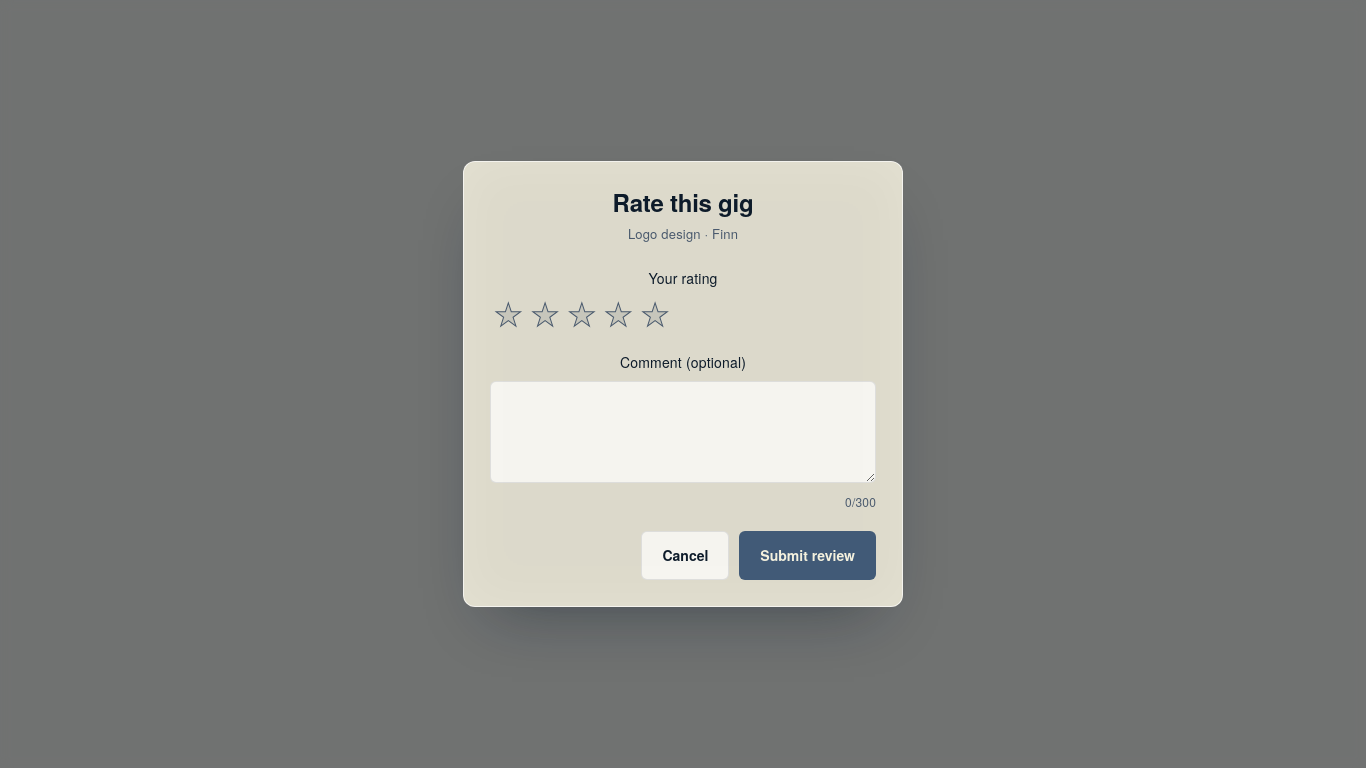
Test: ReviewModal star picker › requires a rating before submitting
The image size is (1366, 768).
Click the button "Submit review" at (808, 555), box [739,531,876,580]
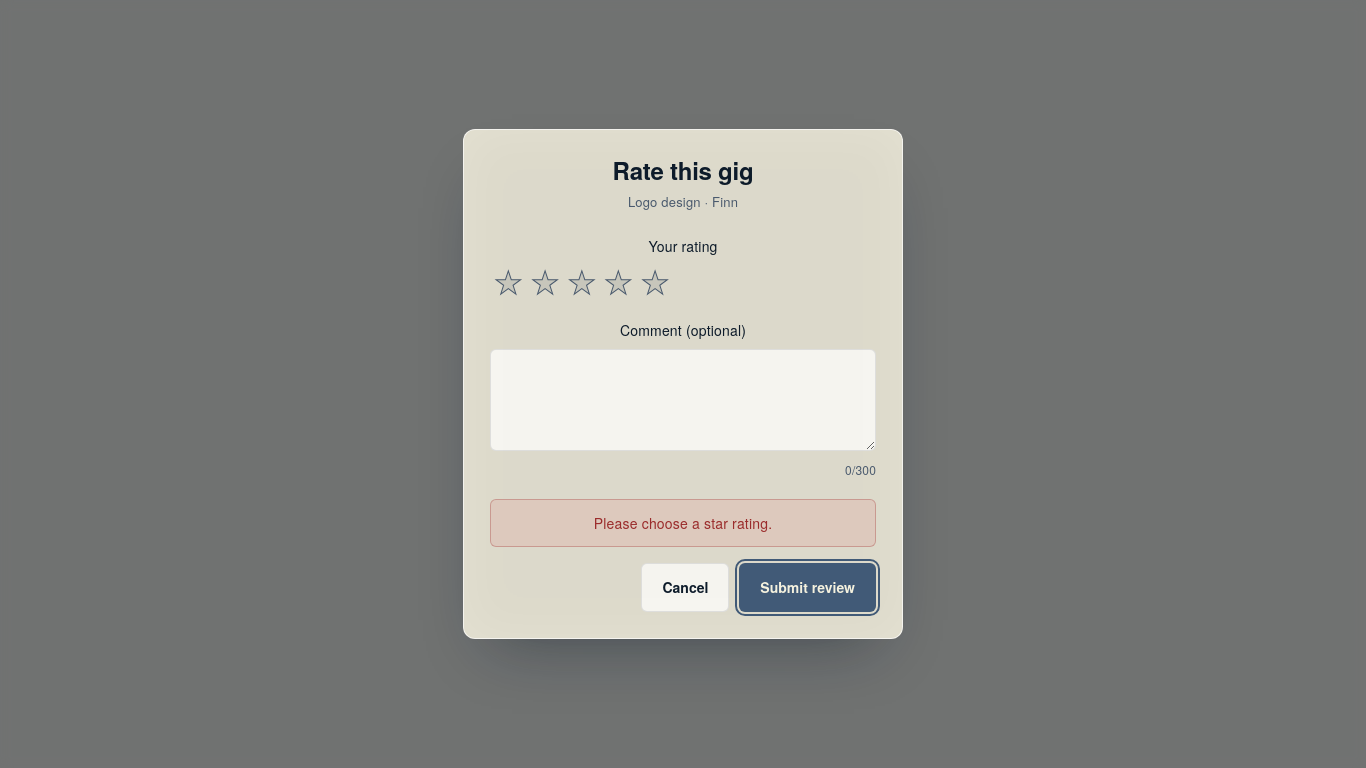
expect the message reads "Please choose a star rating.": met, box [594,513,772,533]
